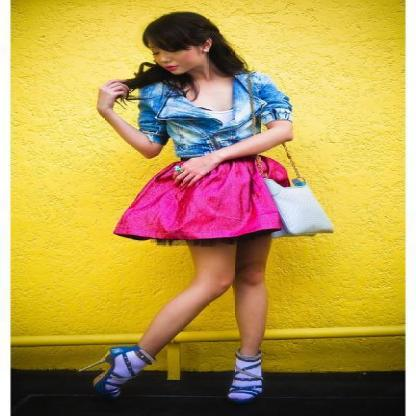bag: (264, 179, 332, 236)
shirt: (139, 65, 292, 160)
shoe: (94, 345, 262, 400)
skirt: (113, 149, 286, 242)
